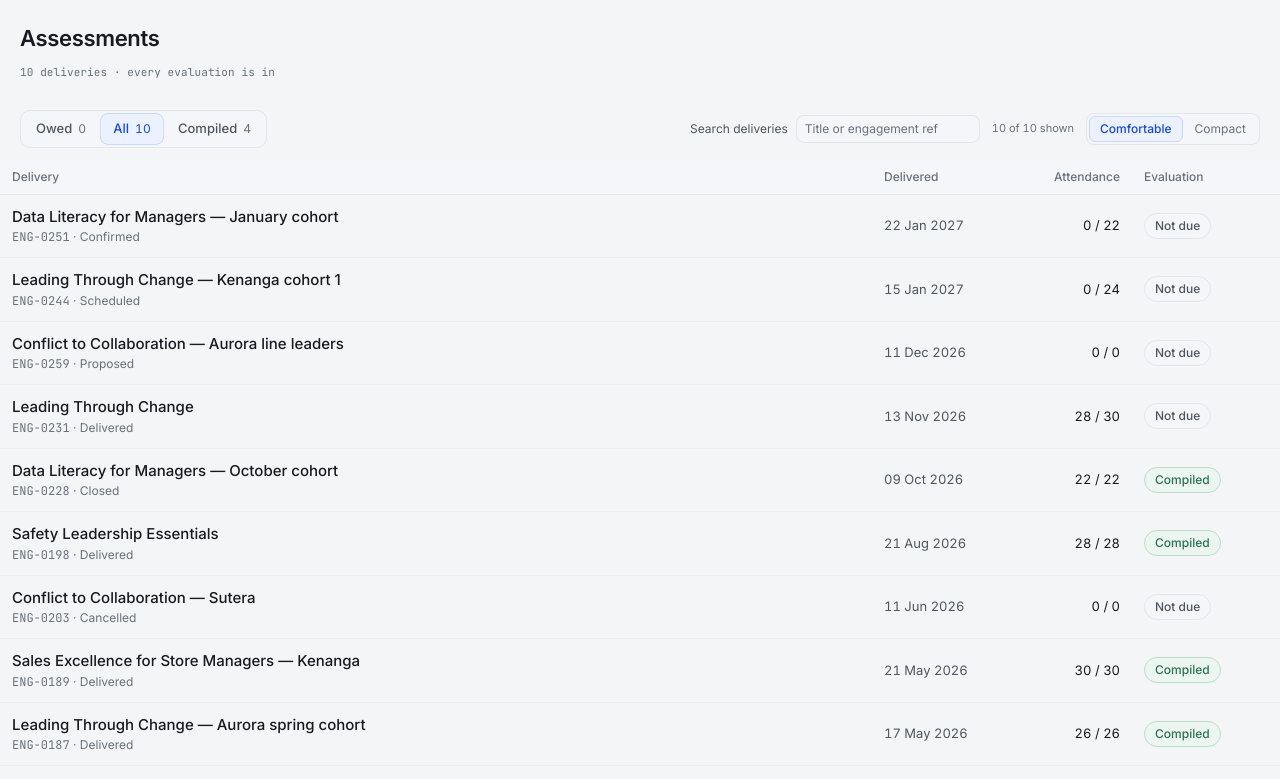
Test: the assessments register › says every evaluation is in rather than showing a blank Owed tab
Click the tab "Owed 0": (61, 128) [23,112,99,144]
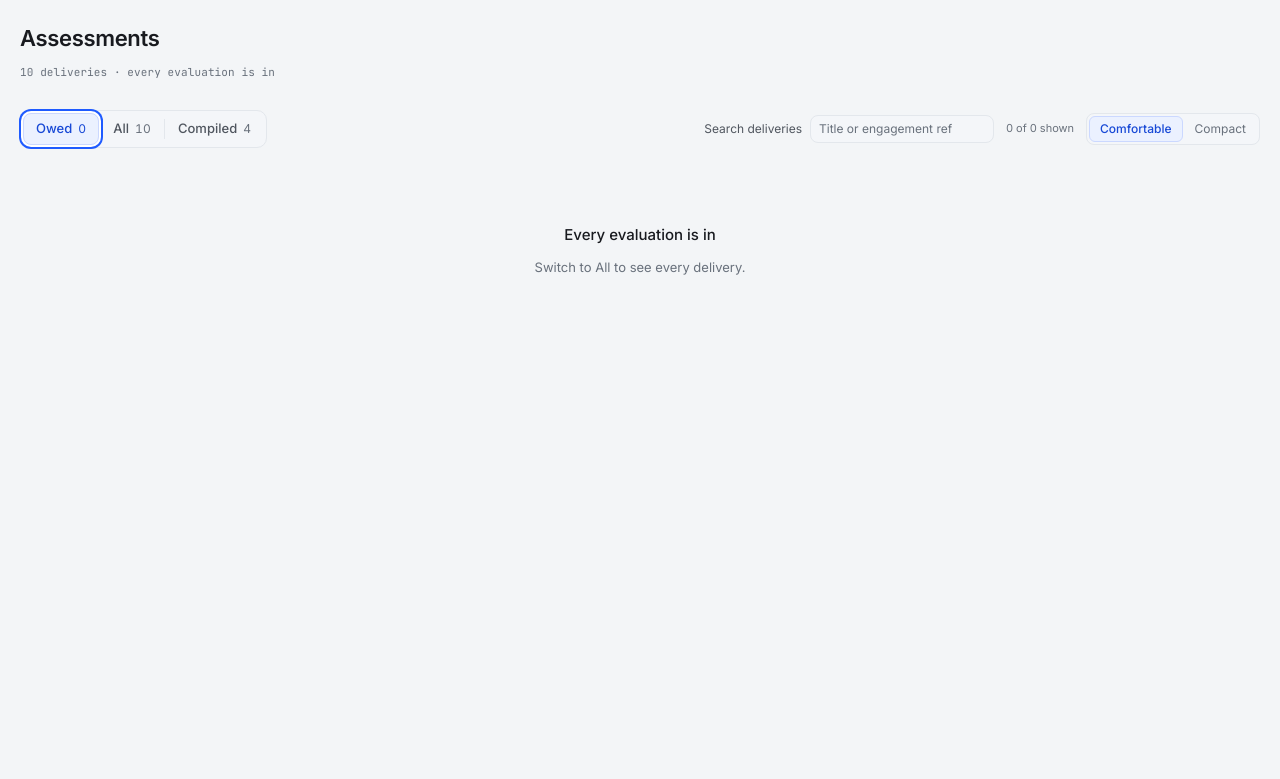
Expected: the text "Every evaluation is in" is shown, [564,224,716,246]
